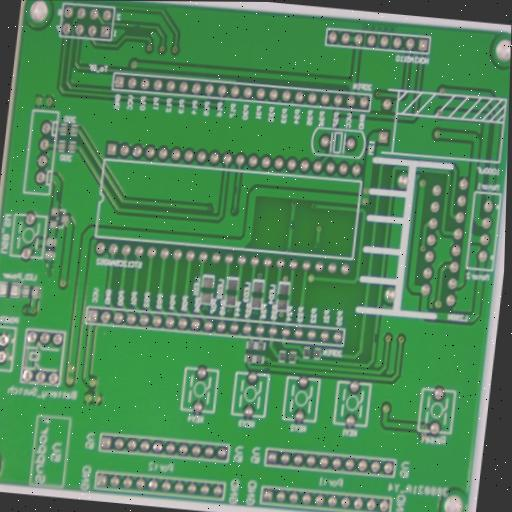mouse_bite: (286, 217, 299, 232), (230, 183, 243, 198), (52, 189, 64, 205), (260, 363, 274, 376), (370, 331, 381, 345)
